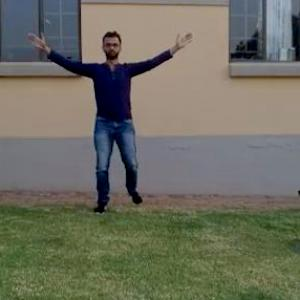takeoff: (26, 24, 195, 215)
